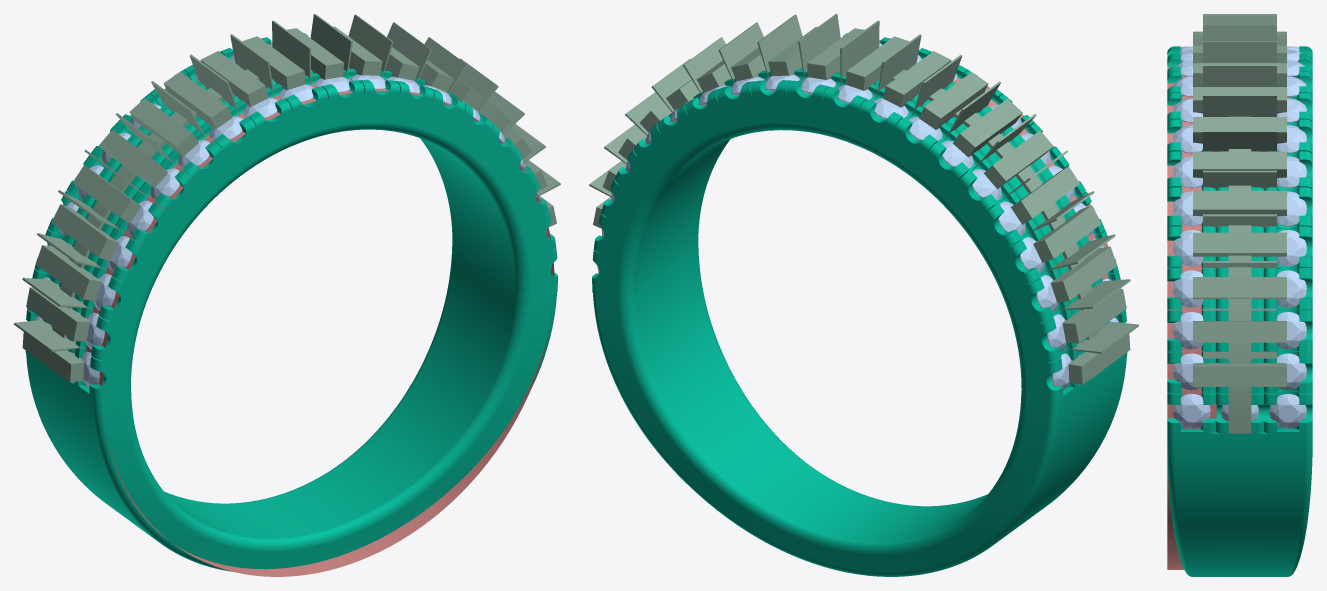
The picture shows the model from 3 angles, left to right: view 1: azimuth 30°, elevation 25°; view 2: azimuth 150°, elevation 25°; view 3: azimuth 270°, elevation 25°; orthographic projection.
Parts seen in each view (by area): view 1: 2 - RPT(front).3dm, Micro Pave Cut Channel Cutter (×23), Channel Cutter; view 2: 2 - RPT(front).3dm, Micro Pave Cut Channel Cutter (×23), Channel Cutter; view 3: 2 - RPT(front).3dm, Micro Pave Cut Channel Cutter (×22), Diamond_Round (×23), Channel Cutter.
Boxes of the visible parts, x1,y1,x2,y2 form: 2 - RPT(front).3dm: (25,33,557,576); Micro Pave Cut Channel Cutter (×23): (14,14,498,382); Channel Cutter: (50,69,259,376); 2 - RPT(front).3dm: (592,33,1127,576); Micro Pave Cut Channel Cutter (×23): (651,14,1138,384); Channel Cutter: (892,69,1102,378); 2 - RPT(front).3dm: (1167,46,1312,576); Micro Pave Cut Channel Cutter (×22): (1193,15,1286,386); Diamond_Round (×23): (1173,60,1306,428); Channel Cutter: (1228,116,1251,433).
Size of the model in its own units: 3.05 by 2.95 by 0.7618.
